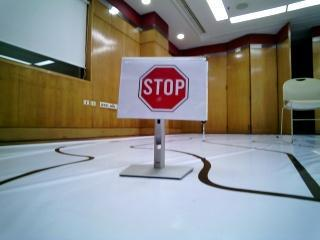stop: (126, 62, 200, 119)
